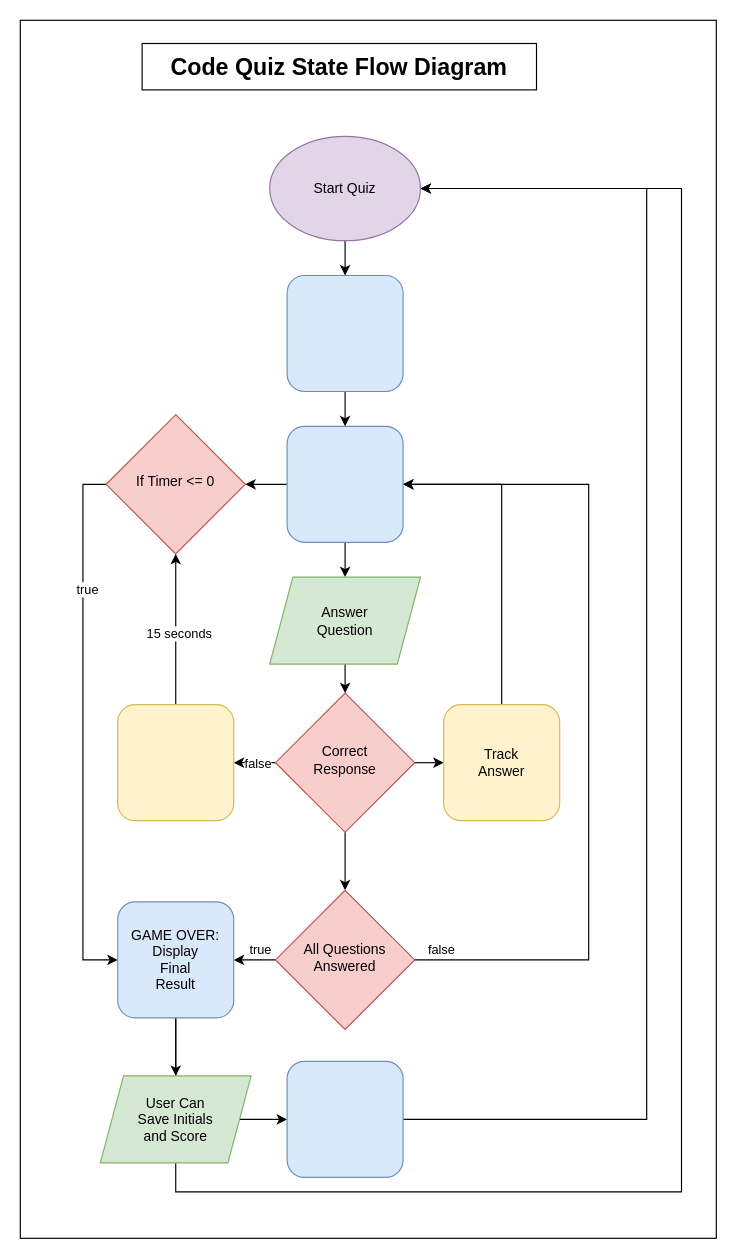
The diagram is 737 pixels wide and 1259 high, and some of its shapes have lost their labels. The box of each missing label's shape, as (x1, y1, x2, y2) in pixels:
Display Question: (286, 425, 403, 542)
Start / Display Timer: (286, 274, 403, 392)
Subtract Time: (117, 704, 234, 821)
Update High Score Board: (286, 1060, 403, 1177)
